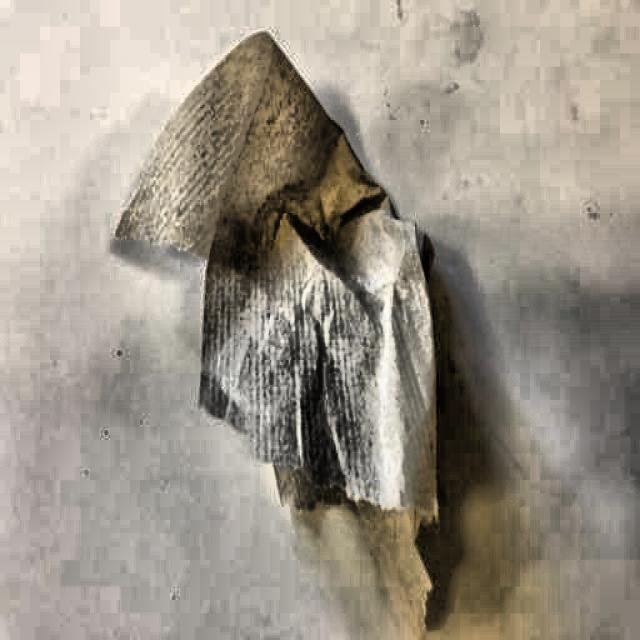trash: (142, 42, 462, 572)
